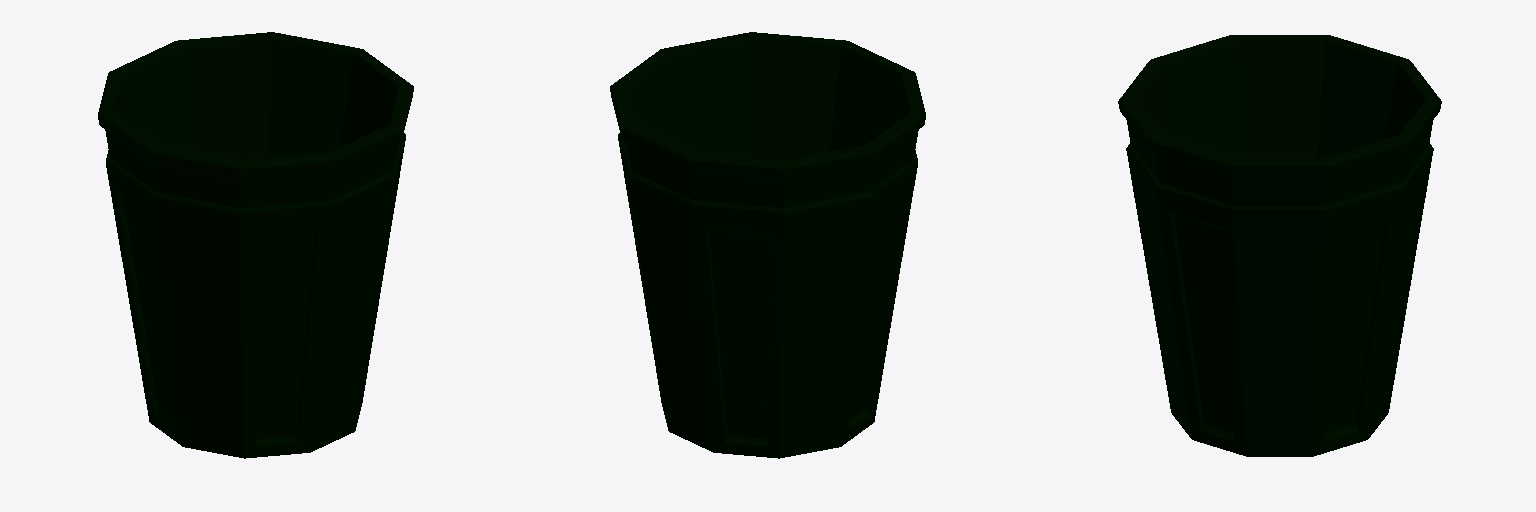
Rendered from TrashCan_01.obj.
3 views of the same model, side by side, from view 1: azimuth 30°, elevation 25°; view 2: azimuth 150°, elevation 25°; view 3: azimuth 270°, elevation 25° (orthographic).
Visible parts, largest first — view 1: TrashCan_01_Cylinder.008; view 2: TrashCan_01_Cylinder.008; view 3: TrashCan_01_Cylinder.008.
Boxes of the visible parts, <box> form: TrashCan_01_Cylinder.008: <box>98,32,413,458</box>; TrashCan_01_Cylinder.008: <box>610,32,925,458</box>; TrashCan_01_Cylinder.008: <box>1118,35,1441,456</box>.
Size of the model in its own units: 3.03 by 3.41 by 3.19.